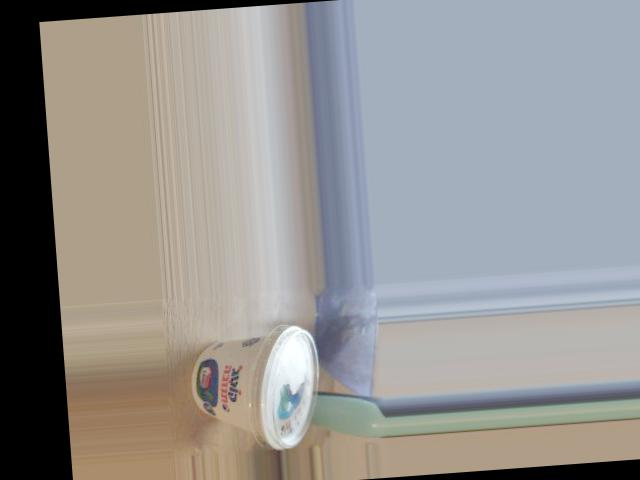cotage: (197, 331, 323, 440)
